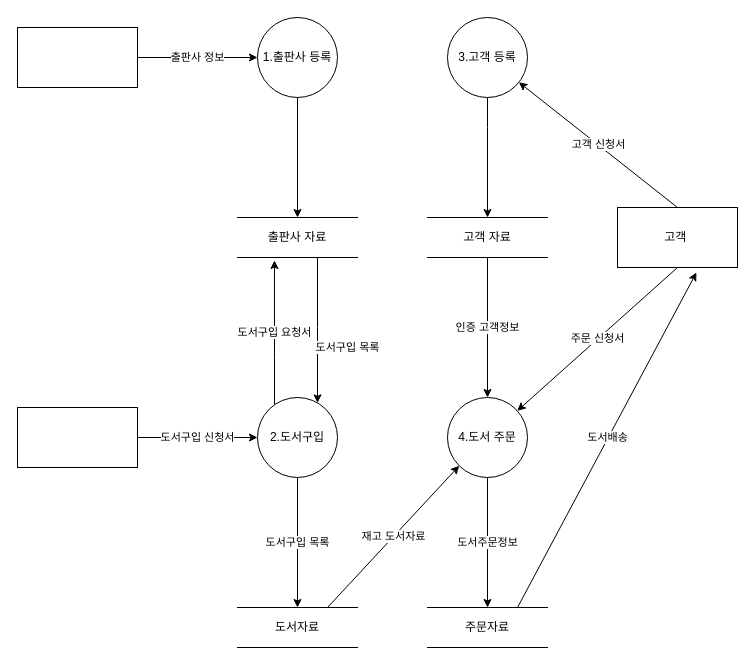
Image size: 755x665. Some labels were removed from this diagram. Here are the shapes that lost their labels. From the top down, the box of each, then its label:
(16, 26, 138, 88): 출판사
(16, 406, 138, 468): 서점담당자
